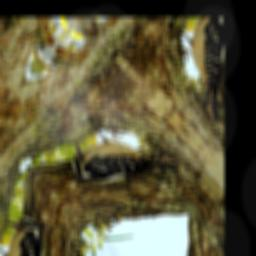Woodpecker: (58, 94, 179, 231)
